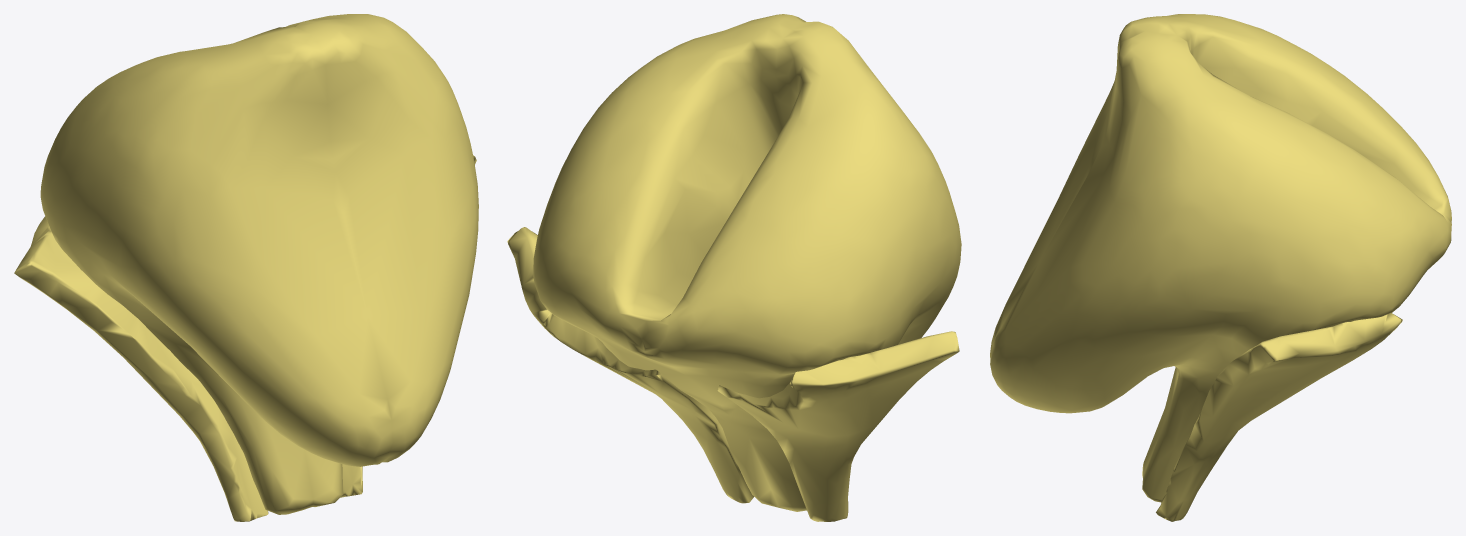
File: hypothalamus.glb
3 renders of one model, left to right at view 1: azimuth 30°, elevation 25°; view 2: azimuth 150°, elevation 25°; view 3: azimuth 270°, elevation 25°, orthographic. The views are drawn at different scales.
Parts seen in each view (by area): view 1: Hypothalamus; view 2: Hypothalamus; view 3: Hypothalamus.
Boxes of the visible parts, x1,y1,x2,y2 form: Hypothalamus: [14, 14, 478, 521]; Hypothalamus: [507, 14, 961, 521]; Hypothalamus: [990, 14, 1451, 521].
Bounding box in the file's own units: 0.0192 × 0.0194 × 0.0174.
